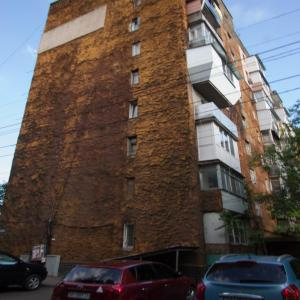Vehicle-registration-plate: (70, 292, 91, 300)
